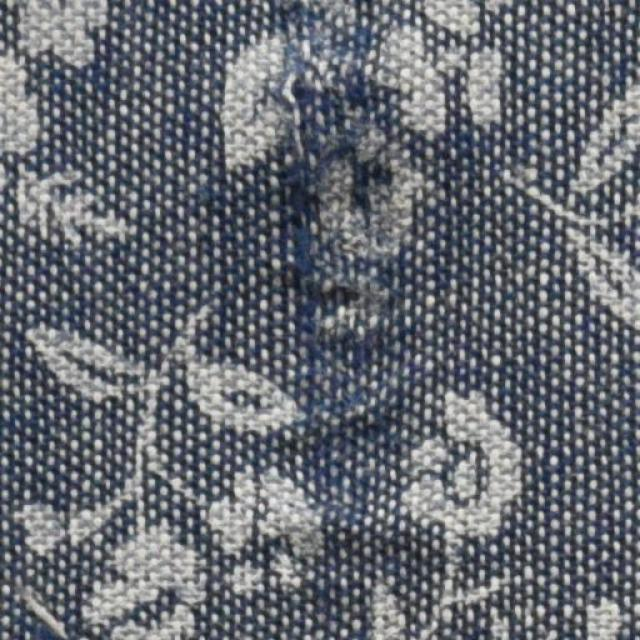Snag: (251, 31, 402, 406)
